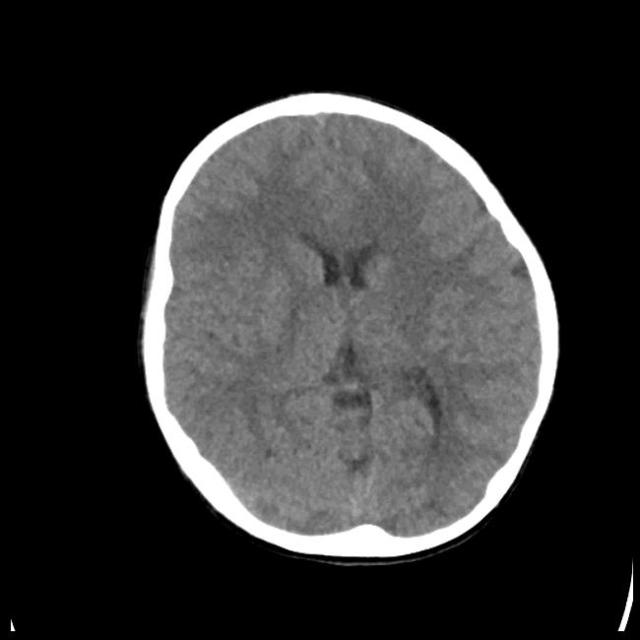lesion: (138, 91, 561, 561)
